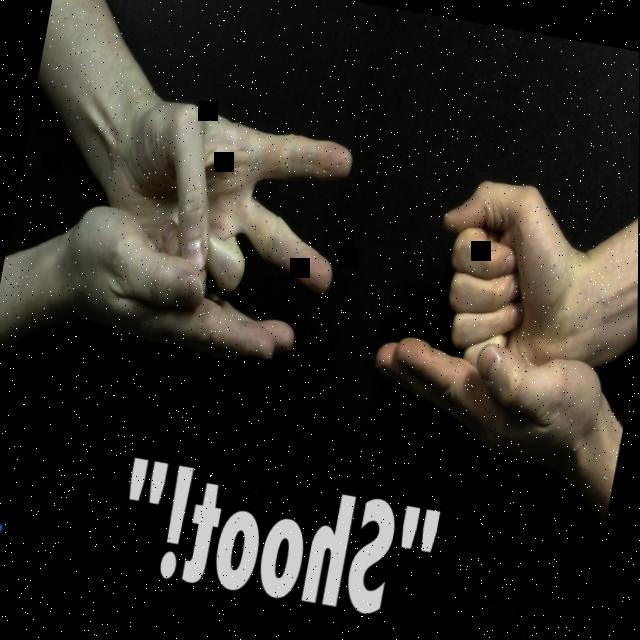Rock: (413, 166, 592, 384)
Scissors: (92, 81, 363, 296)
